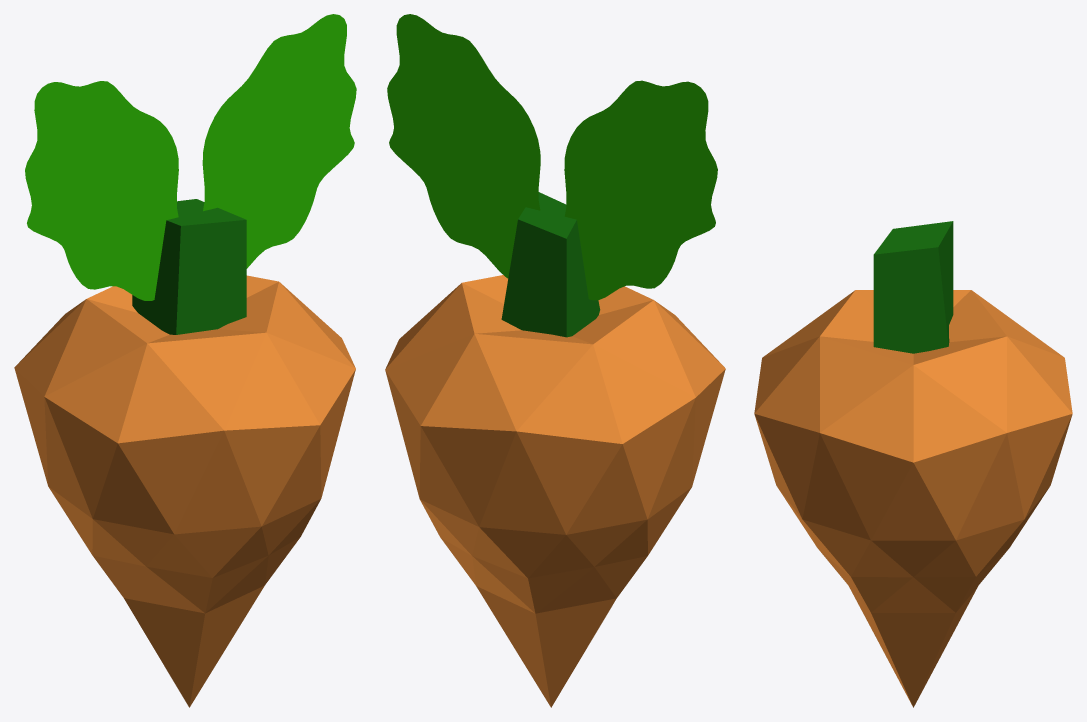
The model's file is polycarrot.fbx.
The picture shows the model from 3 angles, left to right: view 1: azimuth 30°, elevation 25°; view 2: azimuth 150°, elevation 25°; view 3: azimuth 270°, elevation 25°; orthographic projection. The views are drawn at different scales.
Visible parts, largest first — view 1: Icosphere, Plane, Cube; view 2: Icosphere, Plane, Cube; view 3: Icosphere, Cube.
Boxes of the visible parts, x1=… form: Icosphere: x1=14, y1=275, x2=355, y2=707; Plane: x1=25, y1=14, x2=356, y2=300; Cube: x1=132, y1=199, x2=246, y2=334; Icosphere: x1=385, y1=275, x2=725, y2=707; Plane: x1=387, y1=14, x2=717, y2=300; Cube: x1=501, y1=192, x2=600, y2=337; Icosphere: x1=754, y1=290, x2=1072, y2=707; Cube: x1=873, y1=221, x2=953, y2=353.
Size of the model in its own units: 195 by 370 by 170.
